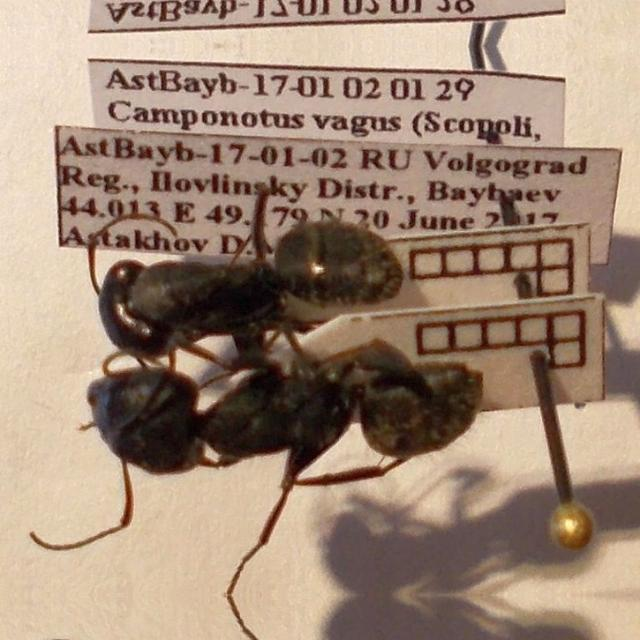Camponotus: (67, 327, 509, 497), (63, 184, 419, 356)
